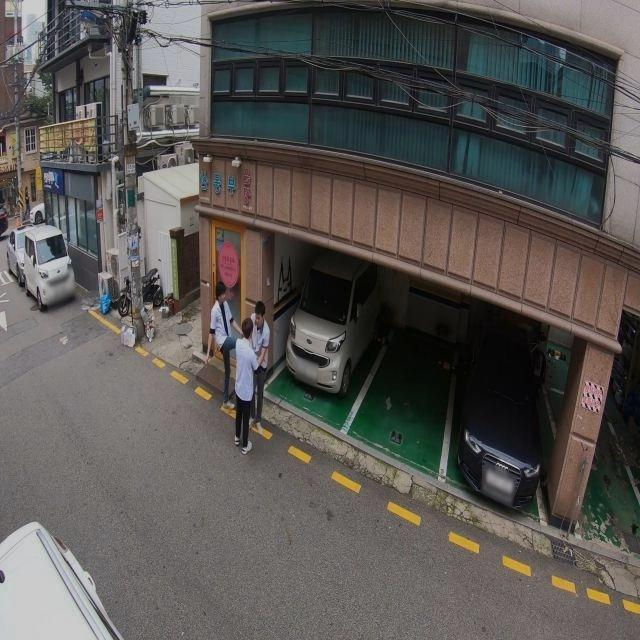fight: (206, 281, 267, 452)
